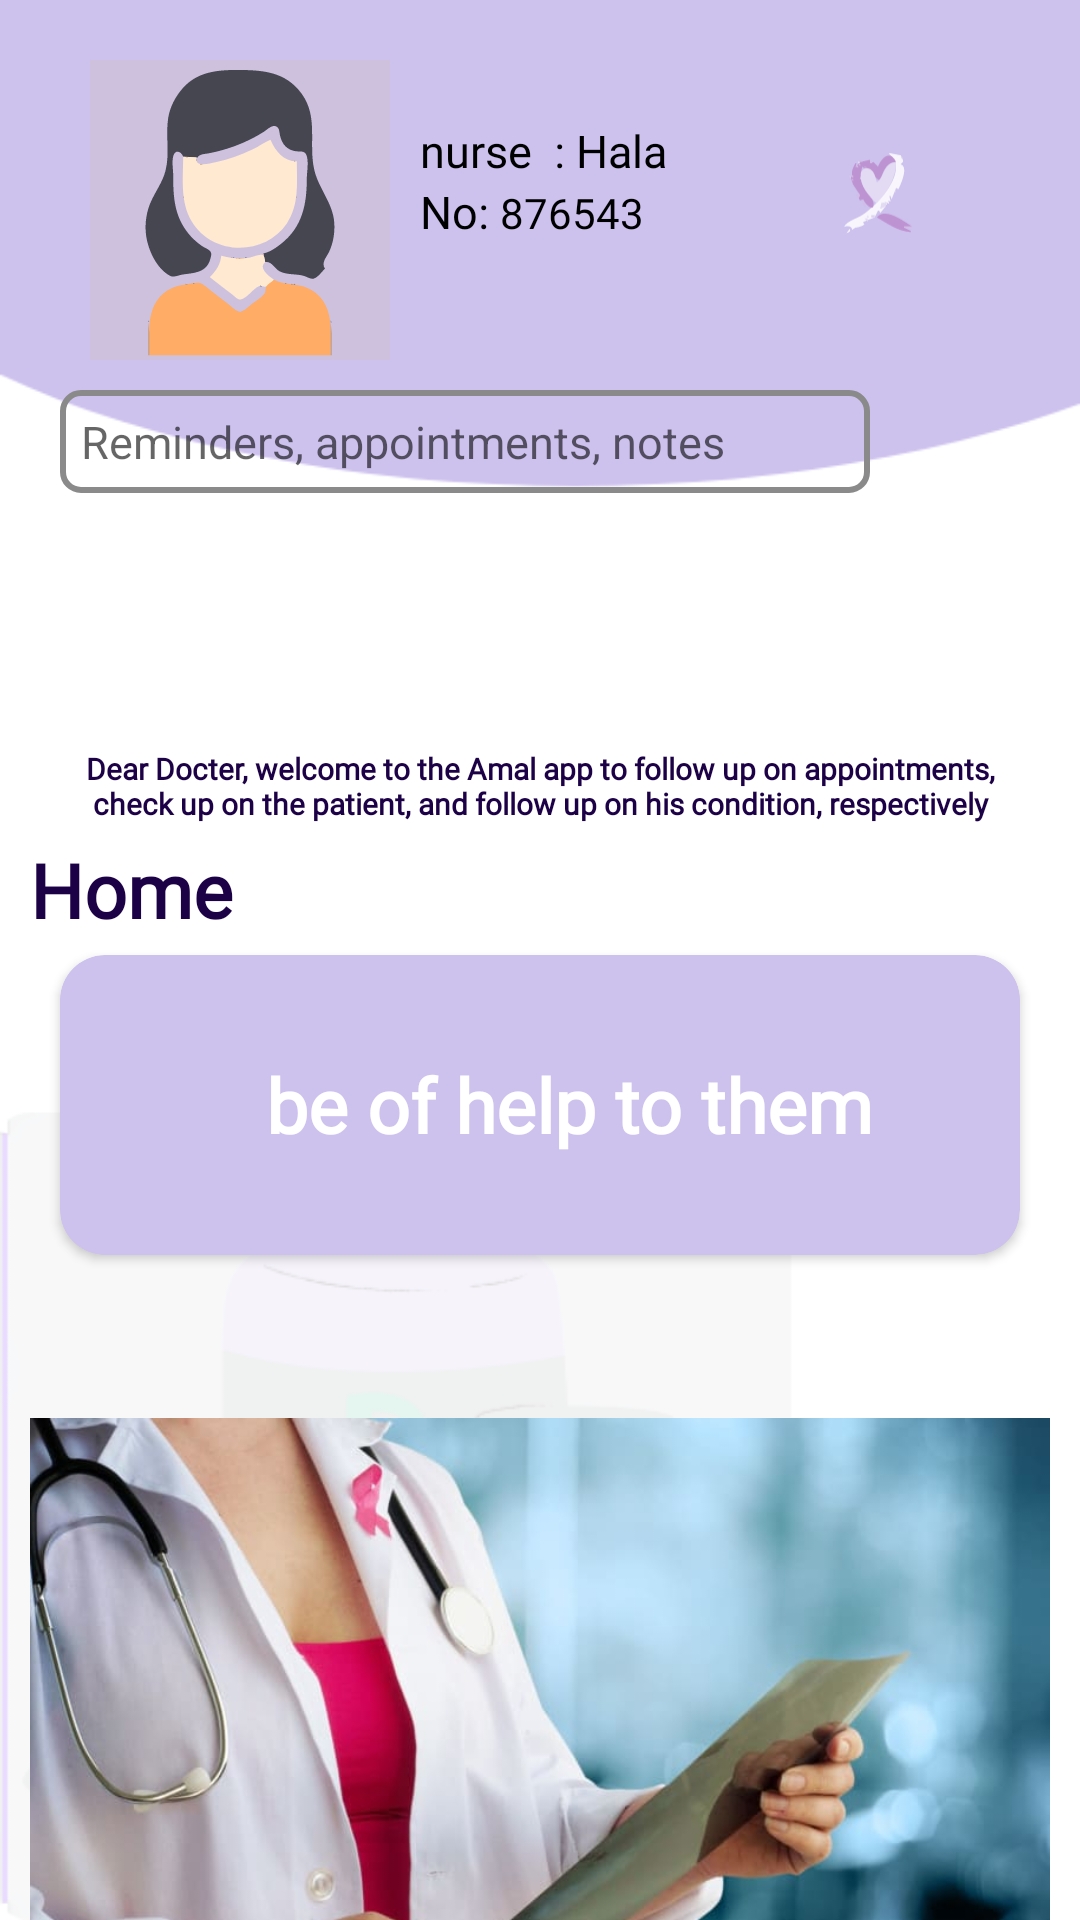

Screen size 1080px×1920px. Icon name, then its box in pixels as (x1, y1, x2, y2):
heart: (845, 153, 911, 233)
person: (145, 70, 335, 356)
